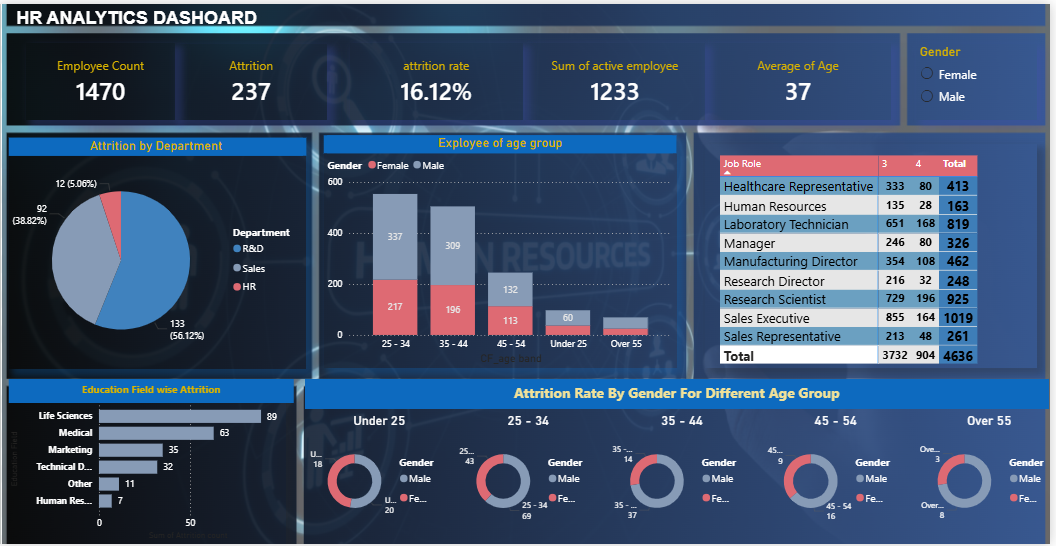

This screenshot's page, from the dashboard's own definition file:
{"tool":"powerbi","page":{"name":"Page 1","canvas":[1400,720],"ordinal":0},"visuals":[{"type":"cardVisual","fields":{"Data":["CountNonNull(HR data.Employee Count)"]},"box":[35,51.7,198.3,103.3],"z":0},{"type":"cardVisual","fields":{"Data":["Sum(HR data.Attrition count)"]},"box":[233.3,53.3,203.3,101.7],"z":1000},{"type":"cardVisual","fields":{"Data":["HR data.attrition rate"]},"box":[466.7,51.7,230,103.3],"z":2000},{"type":"cardVisual","fields":{"Data":["Sum(HR data.active employee)"]},"box":[700,51.7,240,103.3],"z":3000},{"type":"cardVisual","fields":{"Data":["Avg(HR data.Age)"]},"box":[940,51.7,248.3,103.3],"z":4000},{"type":"listSlicer","fields":{"Values":["HR data.Gender"]},"box":[1221.7,53.3,161.7,101.7],"z":5000},{"type":"pieChart","title":"Attrition by Department","fields":{"Category":["HR data.Department"],"Y":["Sum(HR data.Attrition count)"]},"box":[11.7,178.3,396.7,308.3],"z":6000},{"type":"textbox","box":[16.7,0,841.7,51.7],"z":7000},{"type":"columnChart","title":"Exployee of age group","fields":{"Y":["Sum(HR data.Employee Count)"],"Category":["HR data.CF_age band"],"Series":["HR data.Gender"]},"box":[431.7,175,470,310],"z":8000},{"type":"pivotTable","title":"Job satisfaction Rate","fields":{"Rows":["HR data.Job Role"],"Values":["Sum(HR data.Performance Rating)"],"Columns":["HR data.Performance Rating"]},"box":[940,187.1,442.9,298.6],"z":9000},{"type":"clusteredBarChart","fields":{"Category":["HR data.Education Field"],"Y":["Sum(HR data.Attrition count)"]},"box":[8.3,500,373.3,220],"z":10000},{"type":"donutChart","title":"Under 25","fields":{"Y":["Sum(HR data.Attrition count)"],"Category":["HR data.Gender"],"Series":["HR data.CF_age band"]},"box":[408.3,545,195,163.3],"z":11000},{"type":"donutChart","title":"25 - 34","fields":{"Y":["Sum(HR data.Attrition count)"],"Category":["HR data.Gender"],"Series":["HR data.CF_age band"]},"box":[607.2,544.7,195,163.3],"z":12000},{"type":"donutChart","title":"35 - 44","fields":{"Y":["Sum(HR data.Attrition count)"],"Category":["HR data.Gender"],"Series":["HR data.CF_age band"]},"box":[812,544.7,195,163.3],"z":13000},{"type":"donutChart","title":"45 - 54","fields":{"Y":["Sum(HR data.Attrition count)"],"Category":["HR data.Gender"],"Series":["HR data.CF_age band"]},"box":[1016.8,544.7,195,163.3],"z":14000},{"type":"donutChart","title":"Over 55","fields":{"Y":["Sum(HR data.Attrition count)"],"Category":["HR data.Gender"],"Series":["HR data.CF_age band"]},"box":[1221.7,544.7,195,163.3],"z":15000},{"type":"textbox","box":[406.7,500,991.7,40],"z":16000},{"type":"textbox","box":[11.7,500,380,31.7],"z":17000}]}

Visuals, with their boxes in screenshot pixels (x1, y1, x2, y2), scaled from the page's 1400x720 canvas onto the 1056x546 screenshot:
cardVisual - CountNonNull(HR data.Employee Count): Rect(26, 39, 176, 118)
cardVisual - Sum(HR data.Attrition count): Rect(176, 40, 329, 118)
cardVisual - HR data.attrition rate: Rect(352, 39, 526, 118)
cardVisual - Sum(HR data.active employee): Rect(528, 39, 709, 118)
cardVisual - Avg(HR data.Age): Rect(709, 39, 896, 118)
listSlicer - HR data.Gender: Rect(922, 40, 1043, 118)
"Attrition by Department" pieChart: Rect(9, 135, 308, 369)
textbox: Rect(13, 0, 647, 39)
"Exployee of age group" columnChart: Rect(326, 133, 680, 368)
"Job satisfaction Rate" pivotTable: Rect(709, 142, 1043, 368)
clusteredBarChart - HR data.Education Field x Sum(HR data.Attrition count): Rect(6, 379, 288, 545)
"Under 25" donutChart: Rect(308, 413, 455, 537)
"25 - 34" donutChart: Rect(458, 413, 605, 537)
"35 - 44" donutChart: Rect(612, 413, 760, 537)
"45 - 54" donutChart: Rect(767, 413, 914, 537)
"Over 55" donutChart: Rect(922, 413, 1055, 537)
textbox: Rect(307, 379, 1055, 410)
textbox: Rect(9, 379, 295, 403)
